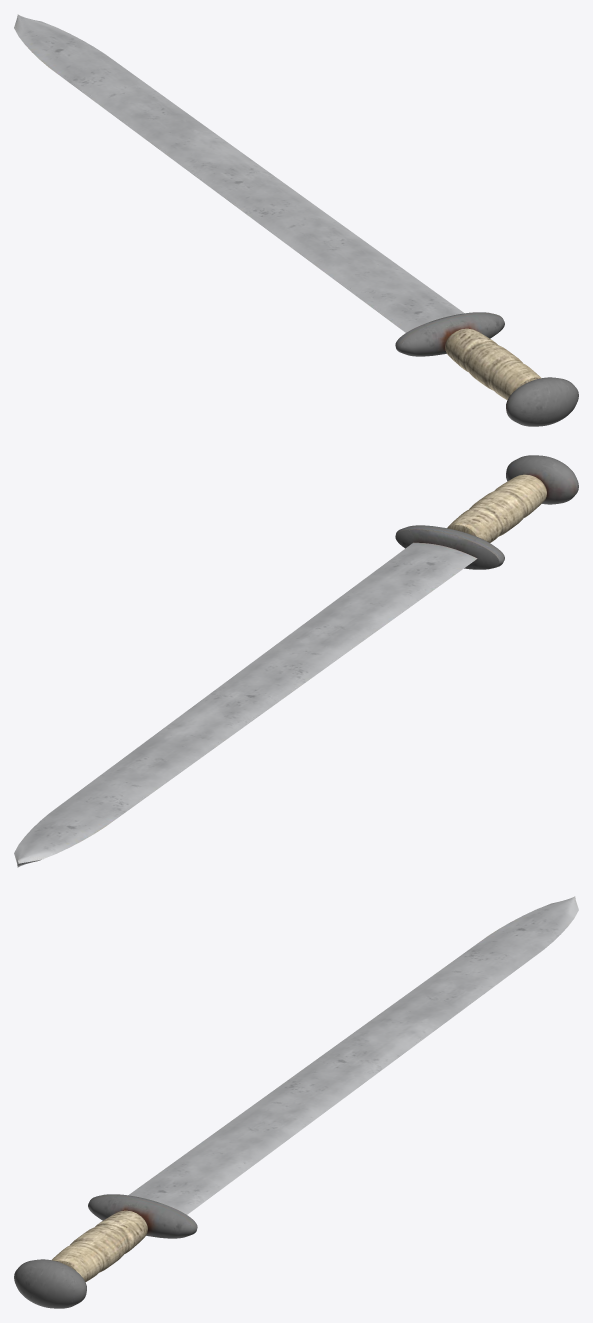
File: semispatha.glb
3 renders of one model, top to bottom at view 1: azimuth 30°, elevation 25°; view 2: azimuth 150°, elevation 25°; view 3: azimuth 330°, elevation 25°, orthographic.
Parts seen in each view (by area): view 1: semispatha; view 2: semispatha; view 3: semispatha.
Part boxes in pixels (x1,y1,x2,y2): semispatha: [14, 14, 578, 426]; semispatha: [14, 455, 578, 867]; semispatha: [14, 896, 578, 1308].
Bounding box in the file's own units: 0.0866 × 0.0332 × 0.746.
Materials: 1 (1 with a texture image).
